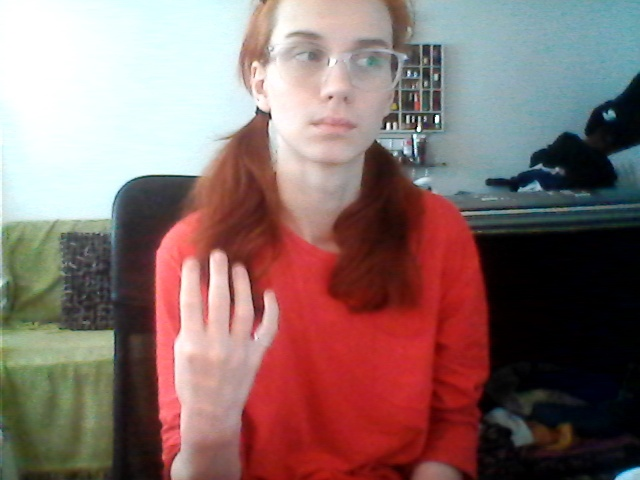kedy: (159, 249, 286, 423)
